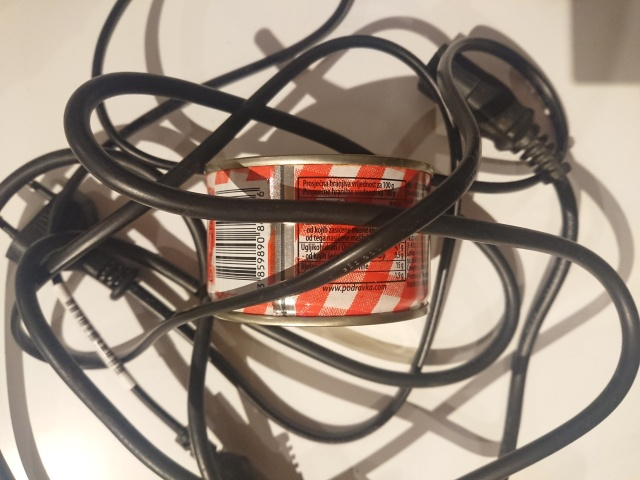Podravka Luncheon Meat 150g: (198, 150, 442, 332)
